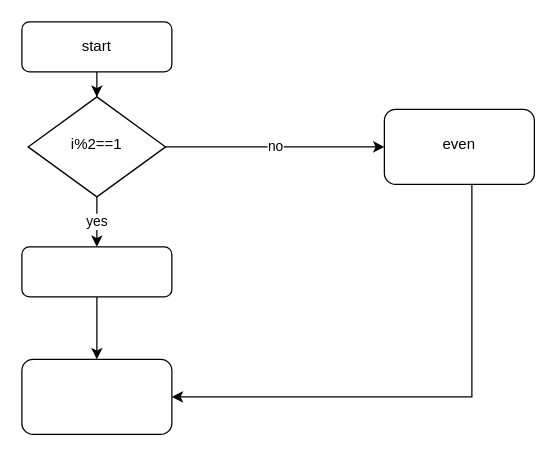
Some shapes in this 556 by 456 pixel diagram are drawn without their labels. The shapes that lost their labels are listed below. From the top down, each one's centre as x and y in pixels, then its label:
(x=96, y=271): odd
(x=96, y=396): return
